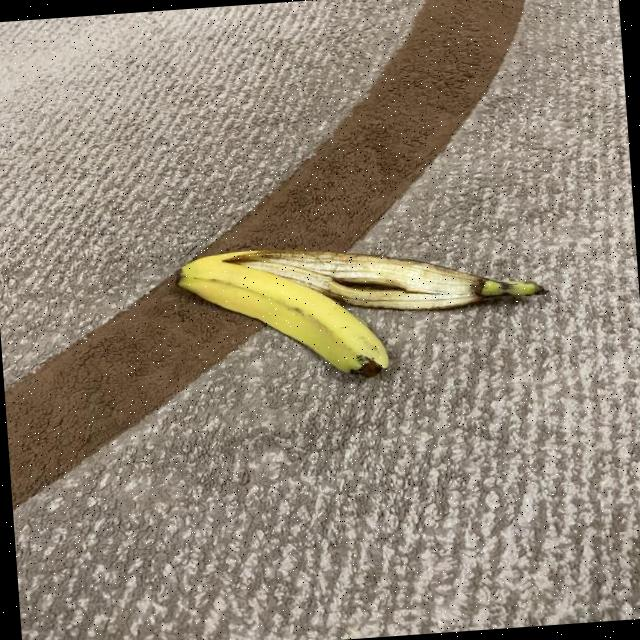banana-peel: (173, 238, 390, 390), (222, 228, 548, 324)
